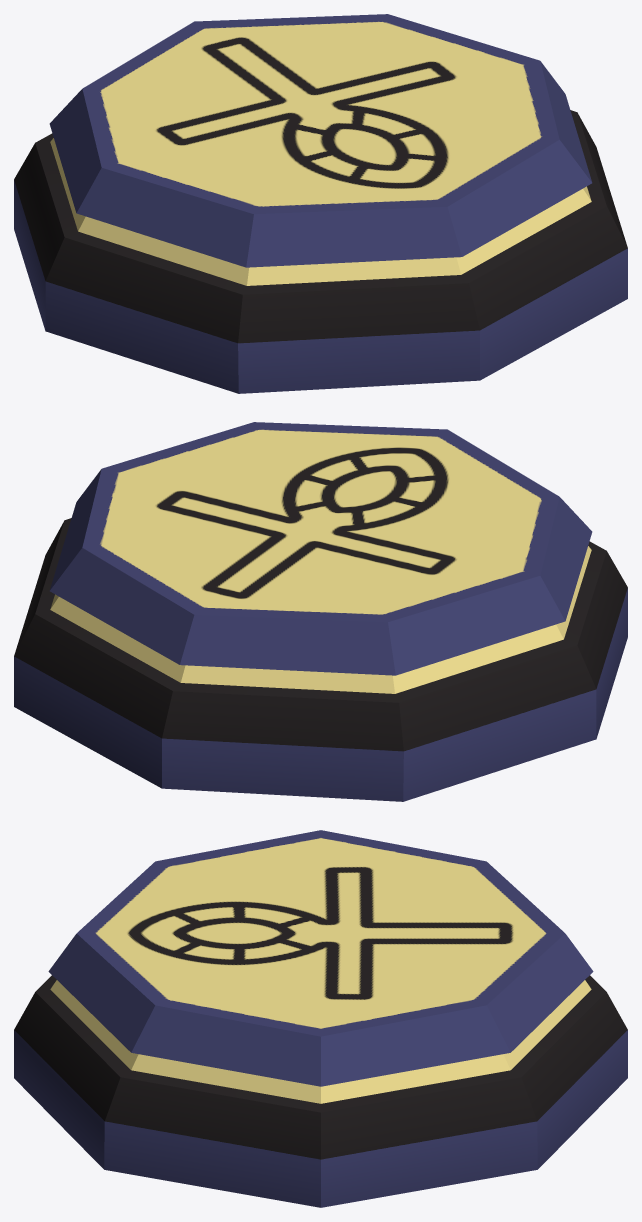
The model's file is Mark.obj.
3 views of the same model, one above another, from view 1: azimuth 30°, elevation 25°; view 2: azimuth 150°, elevation 25°; view 3: azimuth 270°, elevation 25° (orthographic). The views are drawn at different scales.
Parts seen in each view (by area): view 1: Object_mesh.001; view 2: Object_mesh.001; view 3: Object_mesh.001.
Part boxes in pixels (<box>): Object_mesh.001: <box>14,14,627,393</box>; Object_mesh.001: <box>14,422,627,801</box>; Object_mesh.001: <box>14,830,627,1207</box>.
Size of the model in its own units: 0.4091 by 0.1064 by 0.4091.
